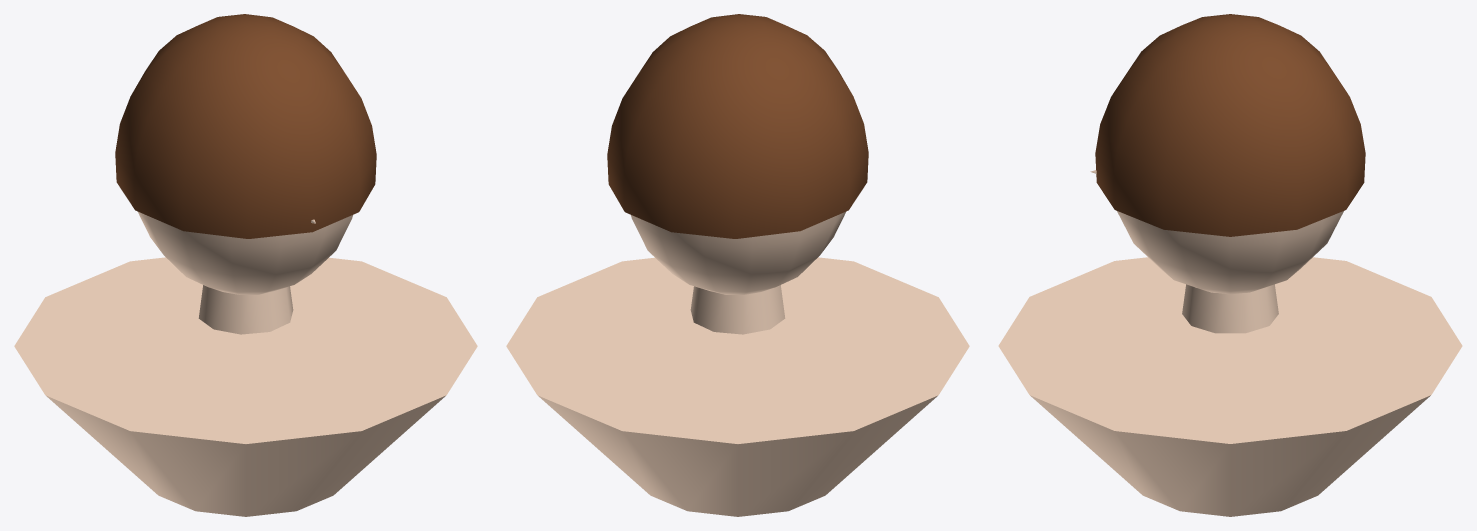
The model's file is raw_002.glb.
The picture shows the model from 3 angles, left to right: view 1: azimuth 30°, elevation 25°; view 2: azimuth 150°, elevation 25°; view 3: azimuth 270°, elevation 25°; orthographic projection.
Size of the model in its own units: 2.01 by 2.15 by 2.01.
